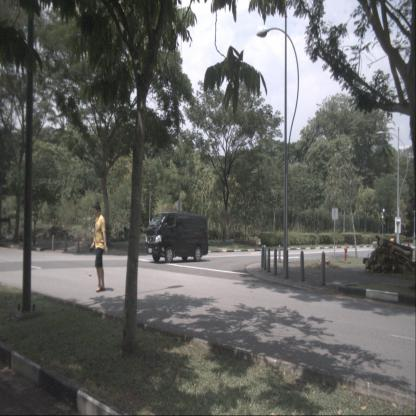human-pedestrian-adult: (90, 203, 108, 292)
vehicle-car: (146, 212, 208, 263)
